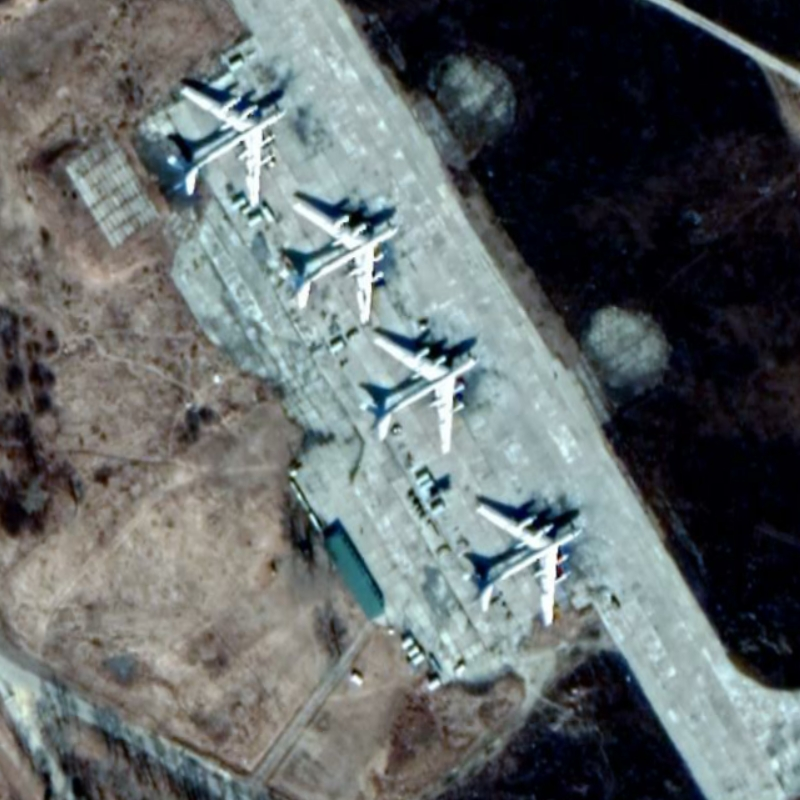A17: (276, 199, 402, 328), (164, 83, 289, 210), (460, 502, 585, 629), (357, 334, 481, 458)
